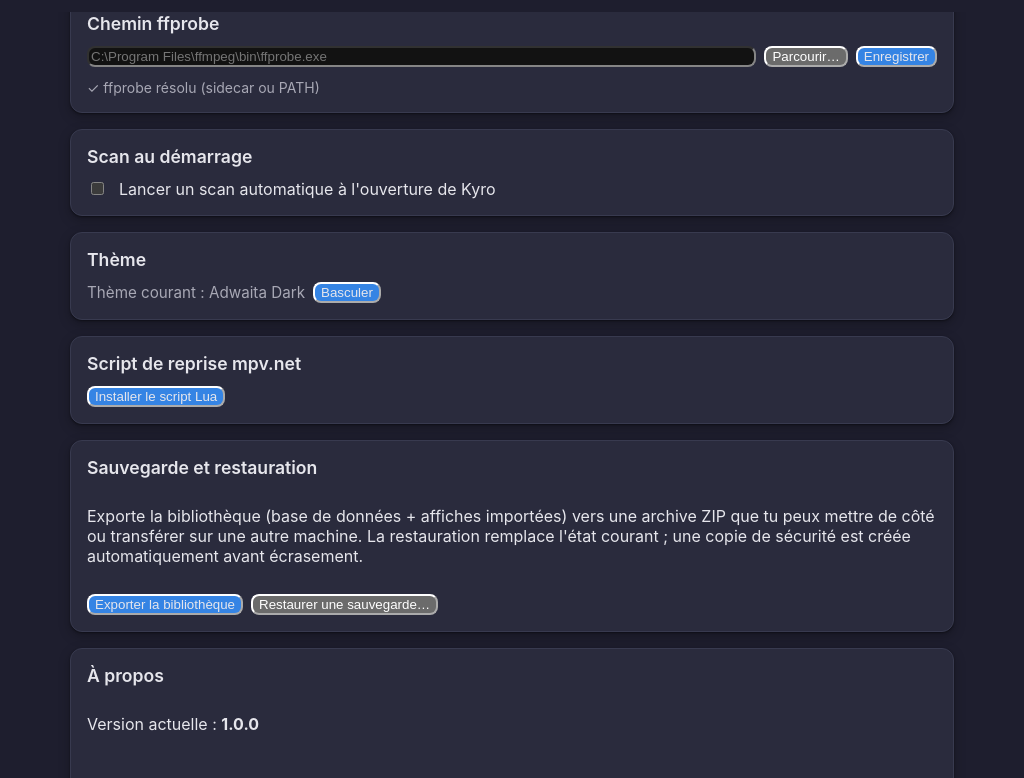
Test case: /settings — section Installer le script Lua (req. 9.7) › affiche un message d'erreur quand l'installation échoue
Click the button with test id "install-lua-script": (156, 396) [87, 386, 225, 407]
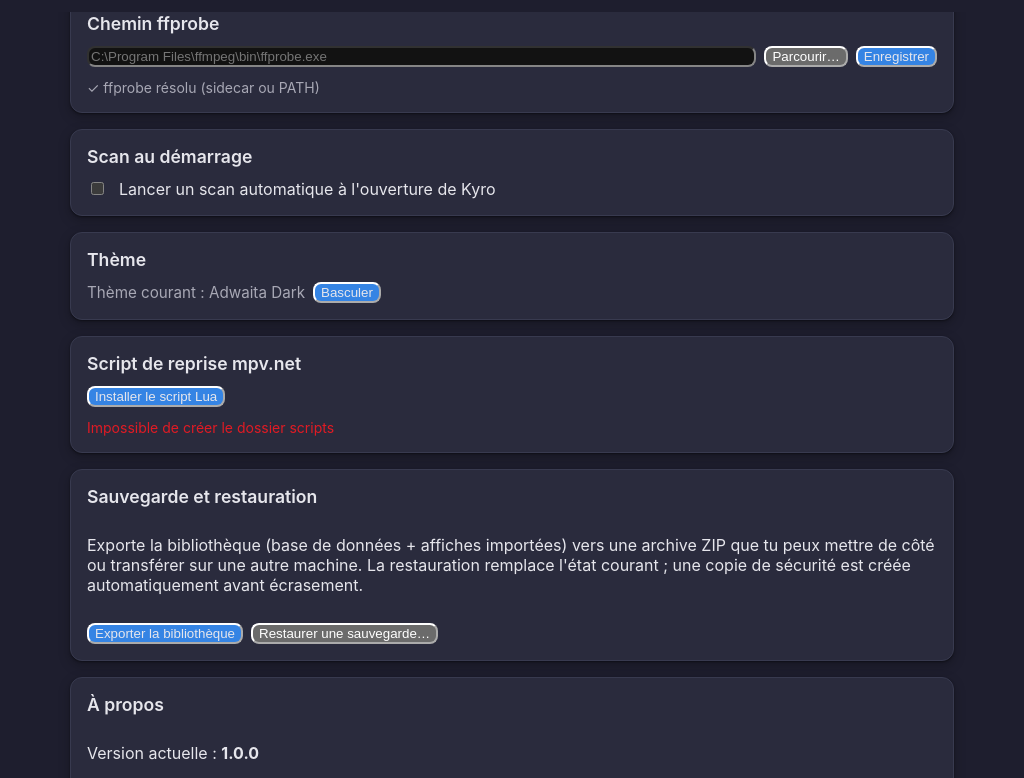
Check: the message with test id "lua-status" shows "Impossible de créer", box [87, 419, 334, 436]
